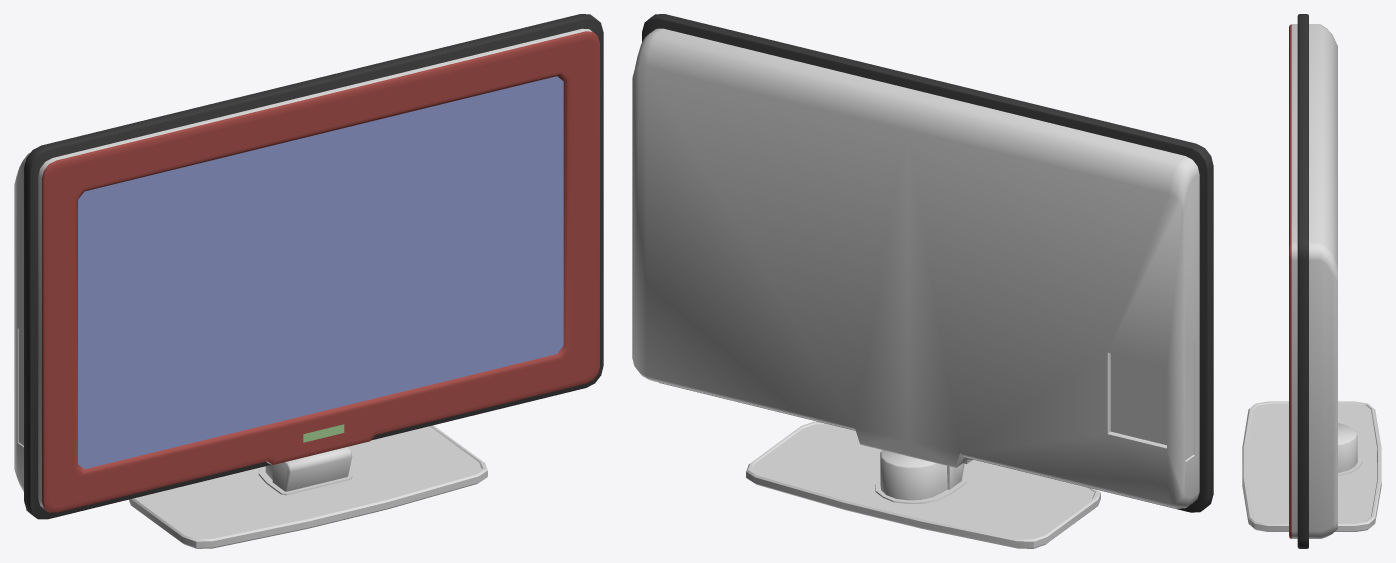
The model's file is 42PFL7403A.FBX.
The picture shows the model from 3 angles, left to right: view 1: azimuth 30°, elevation 25°; view 2: azimuth 150°, elevation 25°; view 3: azimuth 270°, elevation 25°; orthographic projection. The views are drawn at different scales.
Visible parts, largest first — view 1: 42PFL7403A; view 2: 42PFL7403A; view 3: 42PFL7403A.
Part boxes in pixels (x1,y1,x2,y2): 42PFL7403A: (14,14,603,548); 42PFL7403A: (632,14,1213,548); 42PFL7403A: (1242,14,1381,548).
Bounding box in the file's own units: 2657 × 1819 × 665.
